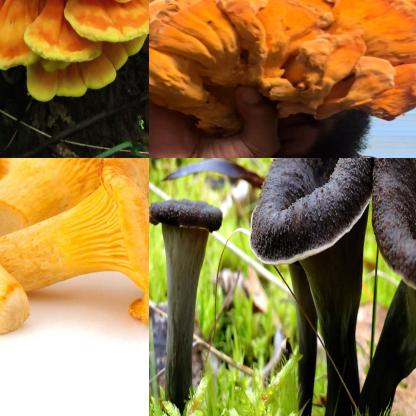CoW: (149, 0, 416, 138), (0, 0, 149, 103)
chanterelle: (247, 158, 390, 416), (0, 158, 149, 326), (149, 194, 224, 416), (372, 158, 416, 416), (0, 158, 126, 243)
